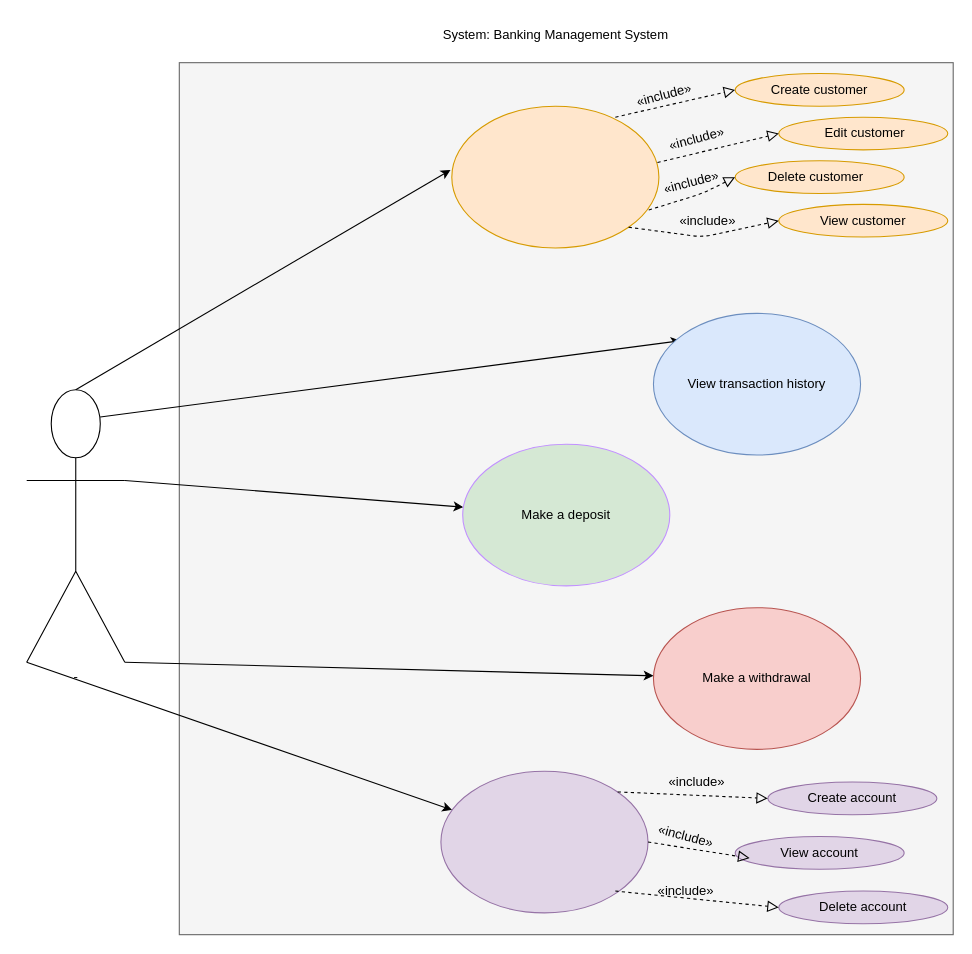
The diagram is 972 pixels wide and 954 high, and some of its shapes have lost their labels. Here are the shapes that lost their labels. From the top down, the centre of each, then its label:
At point 555,176: "Manage customers".
At point 544,841: "Manage accounts".
